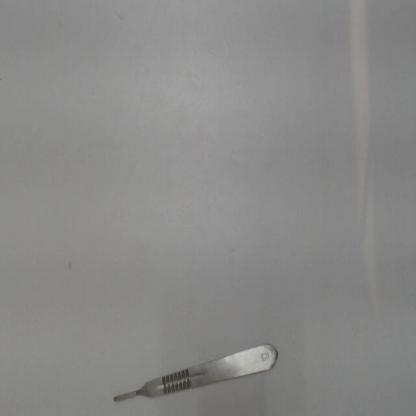No.3 BP Handle: (108, 338, 286, 407)
